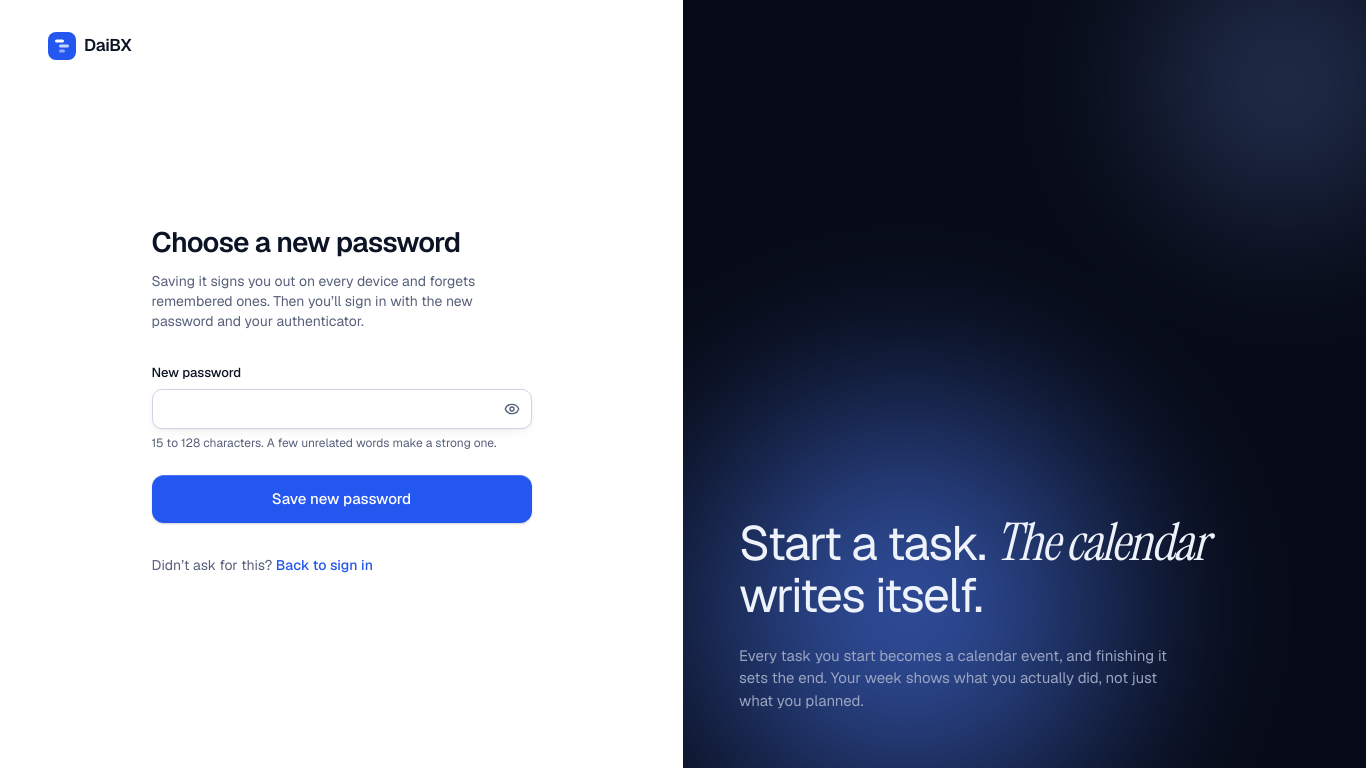
Test case: a refused password shows the backend message
Type "amber kettle hums beneath nine slow bridges" into the password field labelled "New password". click: (342, 409)
box: 152,389 -> 532,429
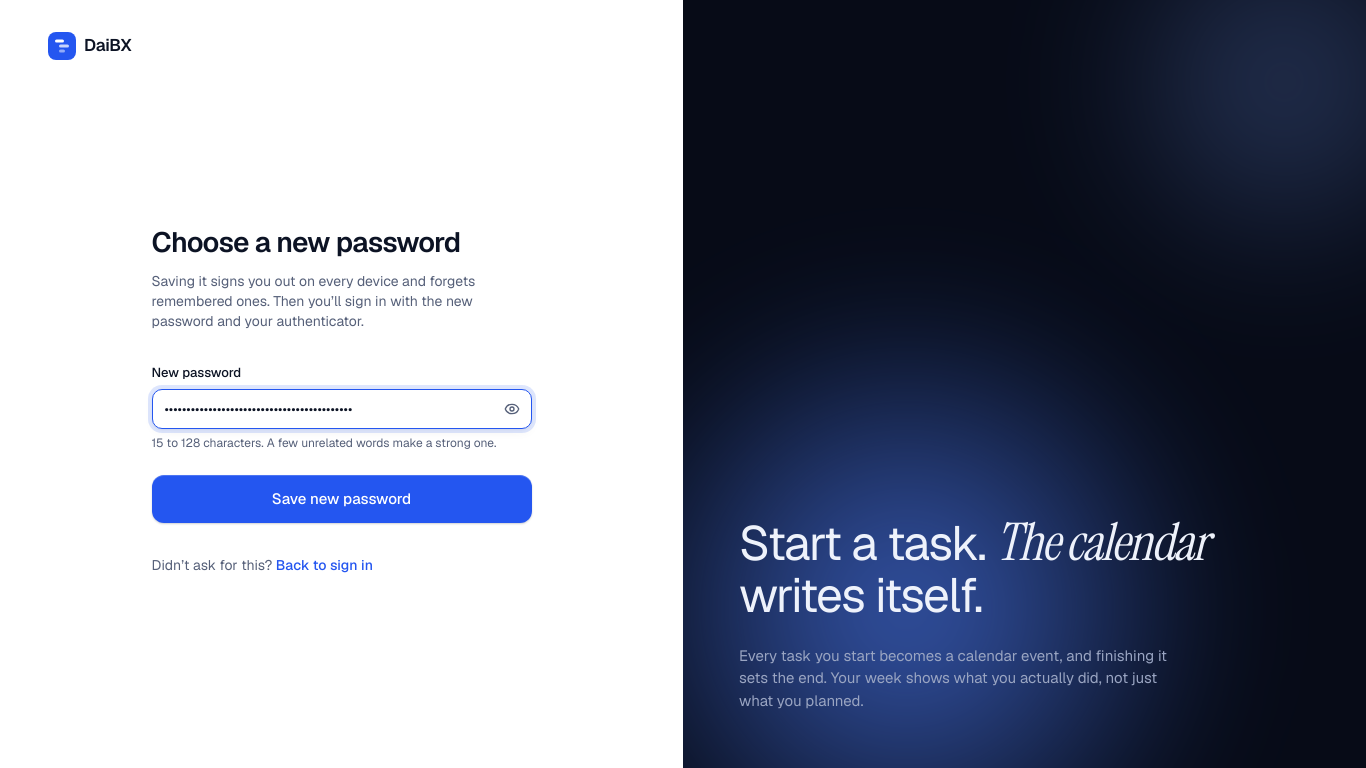
Click the button "Save new password". click: (342, 499)
box: 152,475 -> 532,523
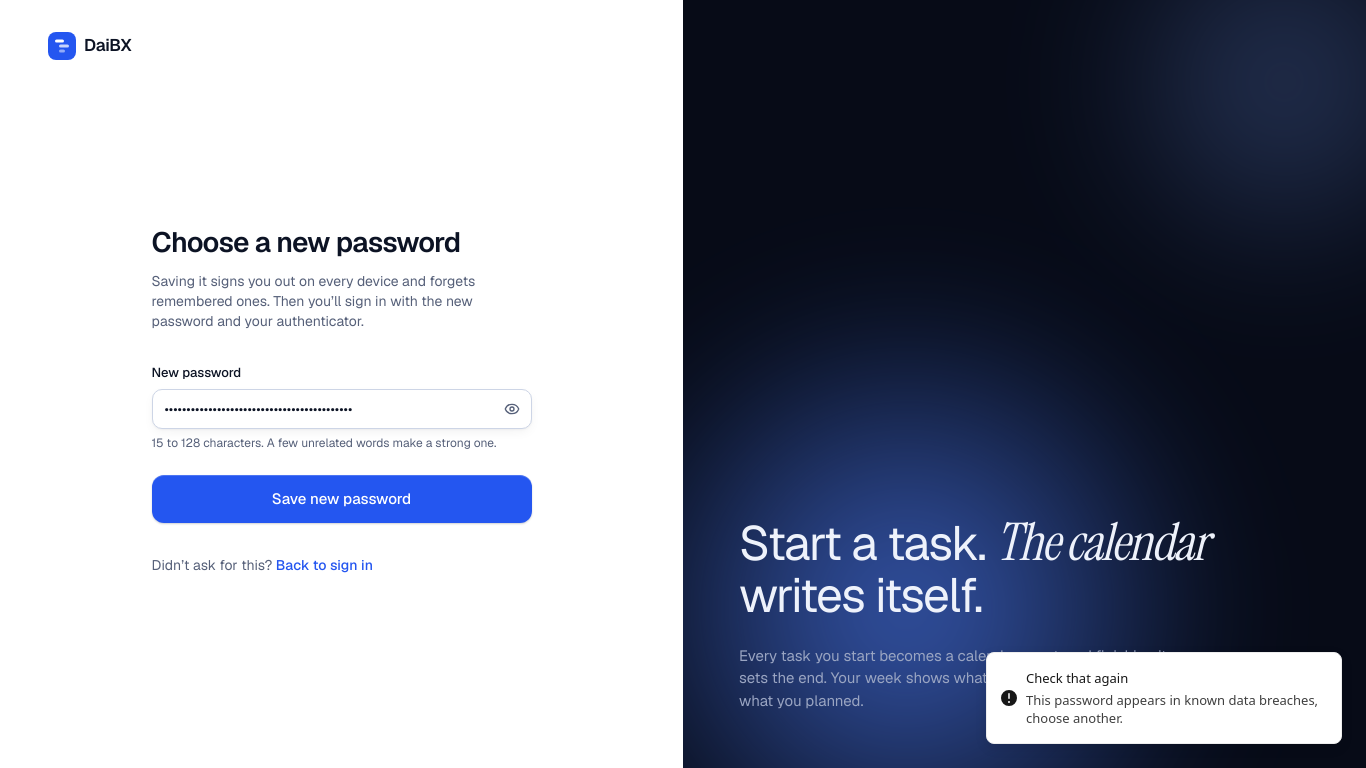
Expected: the text "This password appears in known data breaches, choose another." is shown, 1026,691 -> 1325,727
